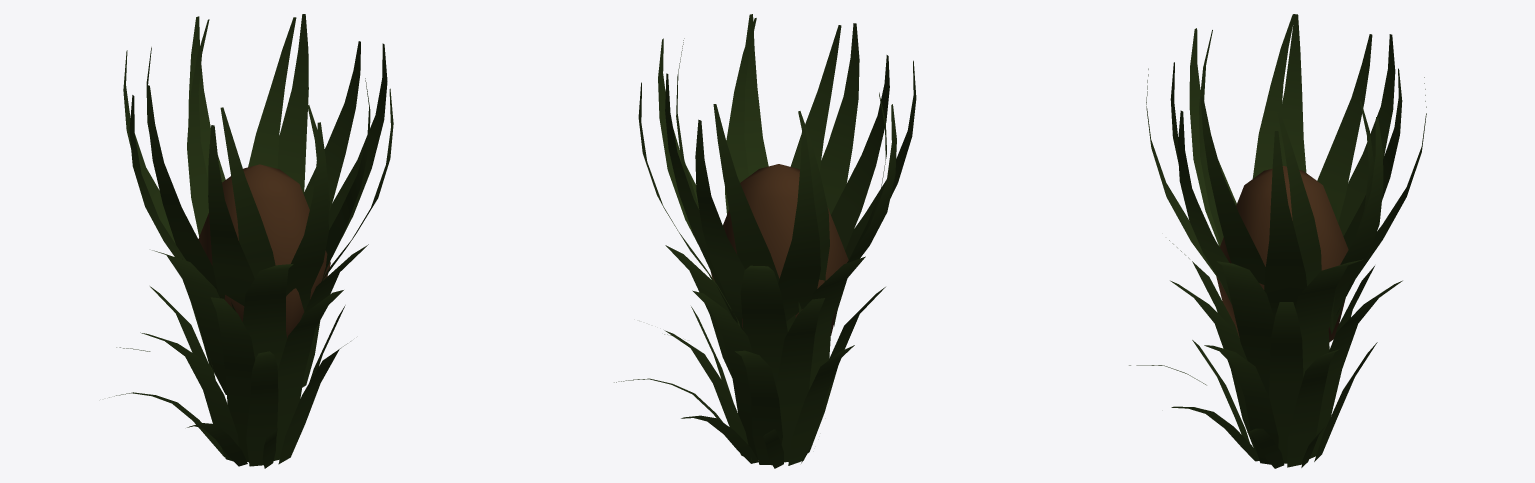
The model's file is SM_Large_Bush_A.fbx.
3 renders of one model, left to right at view 1: azimuth 30°, elevation 25°; view 2: azimuth 150°, elevation 25°; view 3: azimuth 270°, elevation 25°, orthographic.
Visible parts, largest first — view 1: SM_Large_Bush_A.001; view 2: SM_Large_Bush_A.001; view 3: SM_Large_Bush_A.001.
Part boxes in pixels (left/top/right/bottom): SM_Large_Bush_A.001: left=109, top=14, right=393, bottom=468; SM_Large_Bush_A.001: left=614, top=14, right=916, bottom=468; SM_Large_Bush_A.001: left=1129, top=14, right=1426, bottom=468.
Size of the model in its own units: 154 by 154 by 141.
